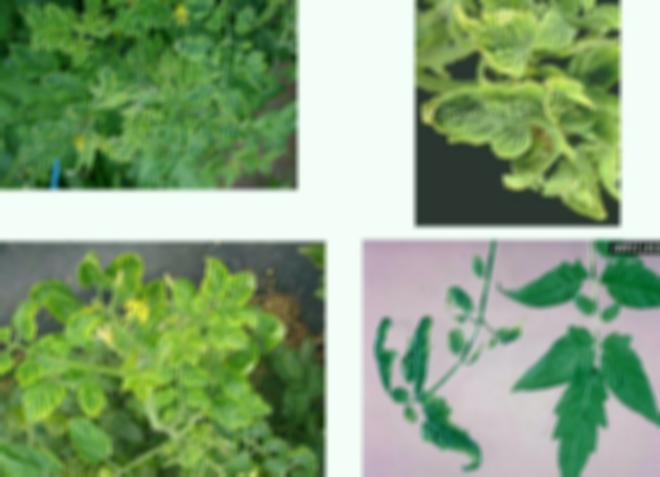Tomato leaf yellow virus: (414, 78, 573, 158), (444, 0, 599, 78), (22, 373, 68, 424), (105, 255, 149, 300), (236, 52, 278, 95), (220, 90, 263, 130), (212, 393, 256, 432), (223, 268, 269, 305), (63, 304, 102, 344), (77, 376, 113, 419), (205, 322, 250, 352), (12, 290, 37, 342), (22, 140, 62, 171), (170, 37, 212, 65), (171, 275, 200, 315), (184, 82, 229, 106), (215, 121, 254, 143), (14, 361, 47, 386), (195, 126, 221, 157), (46, 5, 70, 37), (70, 32, 90, 68), (181, 0, 218, 19), (173, 114, 192, 150), (140, 12, 172, 33), (181, 366, 213, 387), (97, 62, 116, 94), (166, 346, 192, 368), (27, 2, 46, 32), (161, 324, 187, 345), (29, 28, 50, 51), (124, 84, 150, 102), (118, 371, 142, 389), (143, 370, 170, 385), (91, 97, 112, 110), (132, 132, 149, 148)
